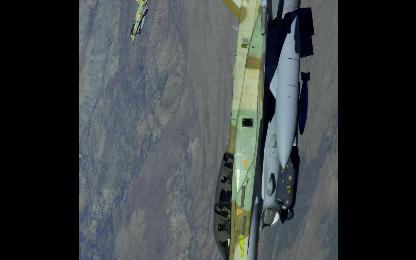F14: (181, 0, 316, 259), (128, 0, 150, 50)
